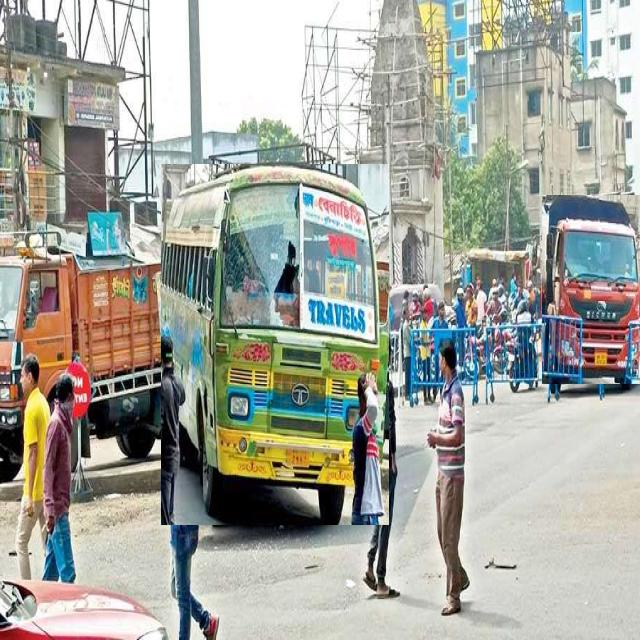accident: (161, 165, 389, 525)
truck: (0, 248, 170, 480), (542, 196, 640, 384)
